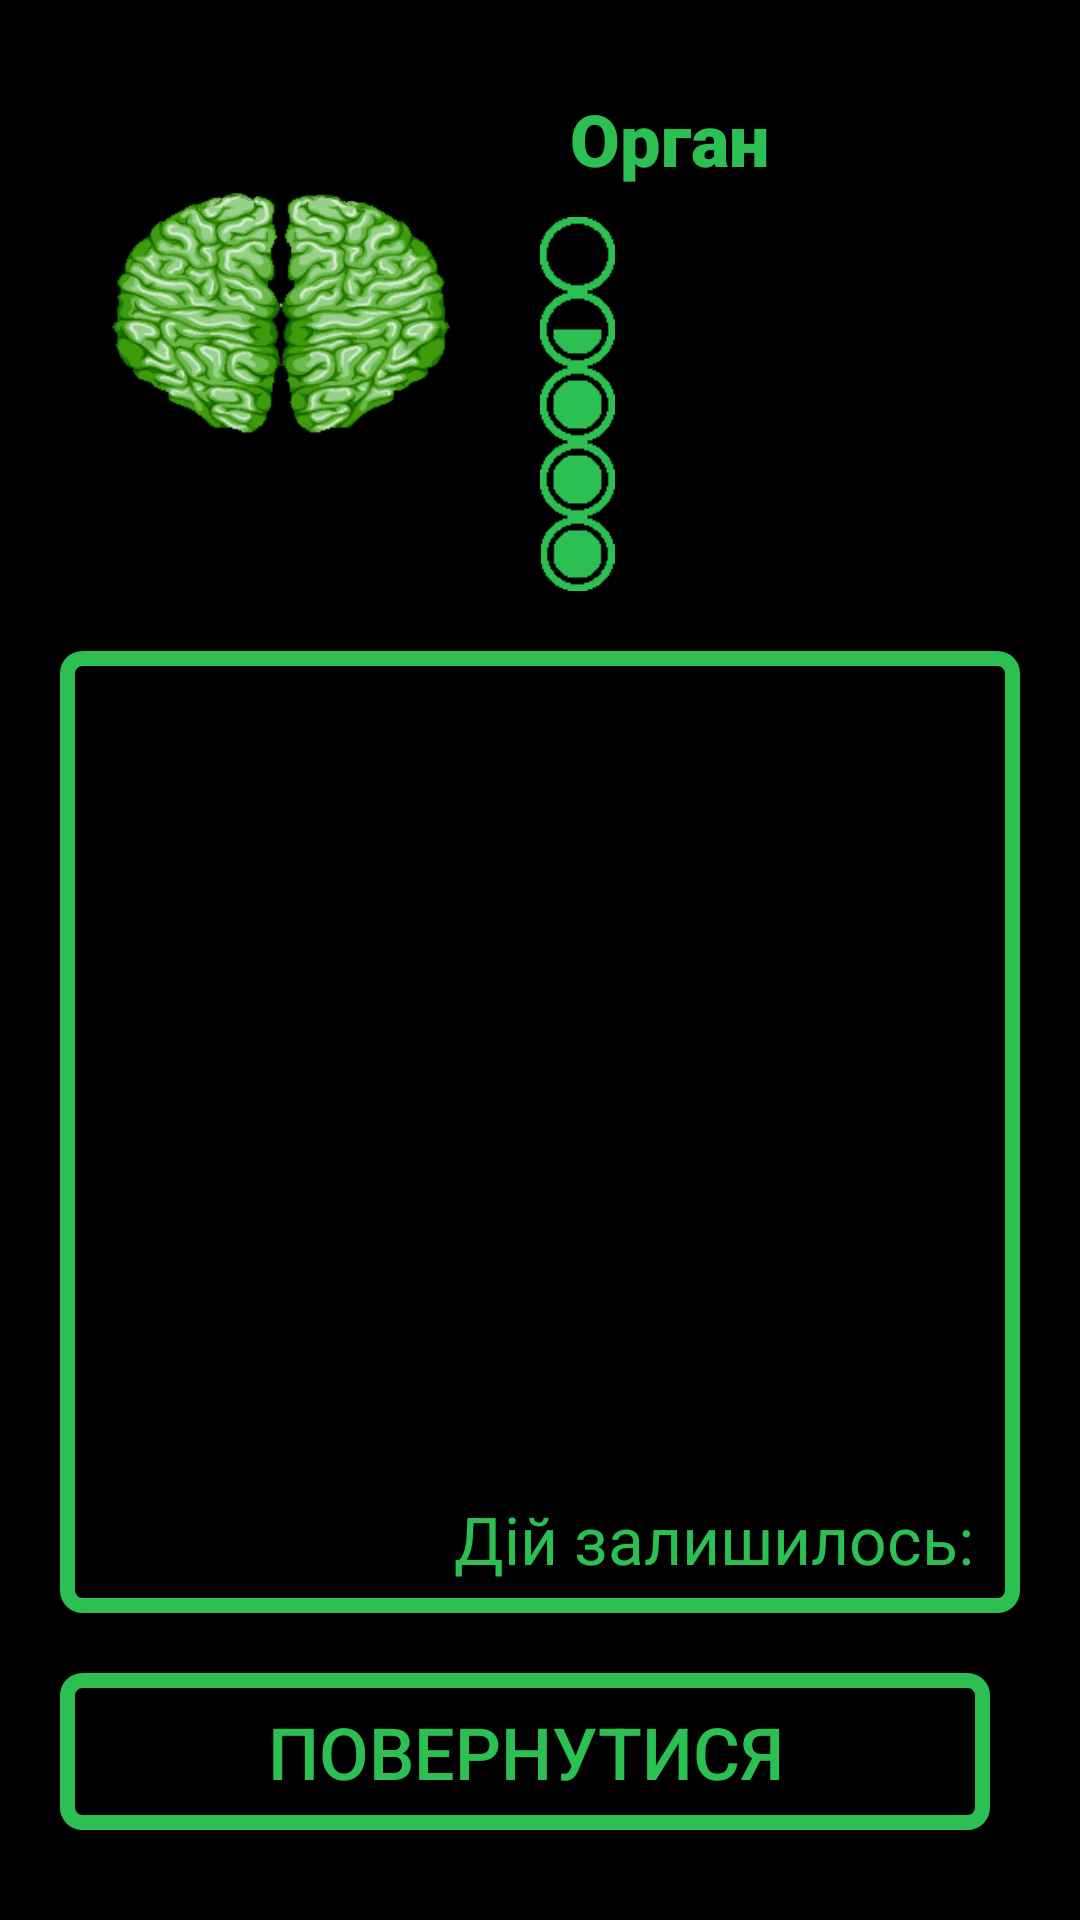

Icons on this 1080×1920 Android screen, each with its box as (x1, y1, x2, y2):
brain: (112, 193, 450, 433)
circle empty: (540, 217, 615, 292)
circle full: (553, 380, 602, 429), (553, 455, 602, 504), (553, 530, 602, 578)
circle half: (540, 292, 615, 367)
